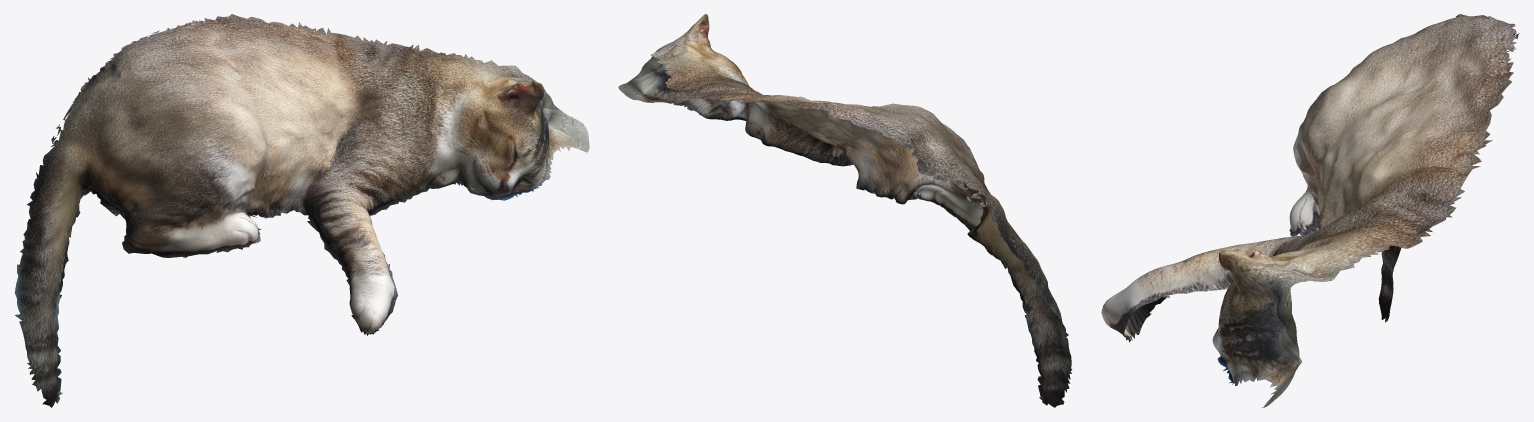
Rendered from SM_AnimCat_01.fbx.
3 renders of one model, left to right at view 1: azimuth 30°, elevation 25°; view 2: azimuth 150°, elevation 25°; view 3: azimuth 270°, elevation 25°, orthographic. The views are drawn at different scales.
Visible parts, largest first — view 1: SM_Cat; view 2: SM_Cat; view 3: SM_Cat.
Boxes of the visible parts, x1,y1,x2,y2 form: SM_Cat: (14,14,589,407); SM_Cat: (618,14,1072,407); SM_Cat: (1101,14,1519,407).
Bounding box in the file's own units: 48.66 × 27.06 × 26.43.
